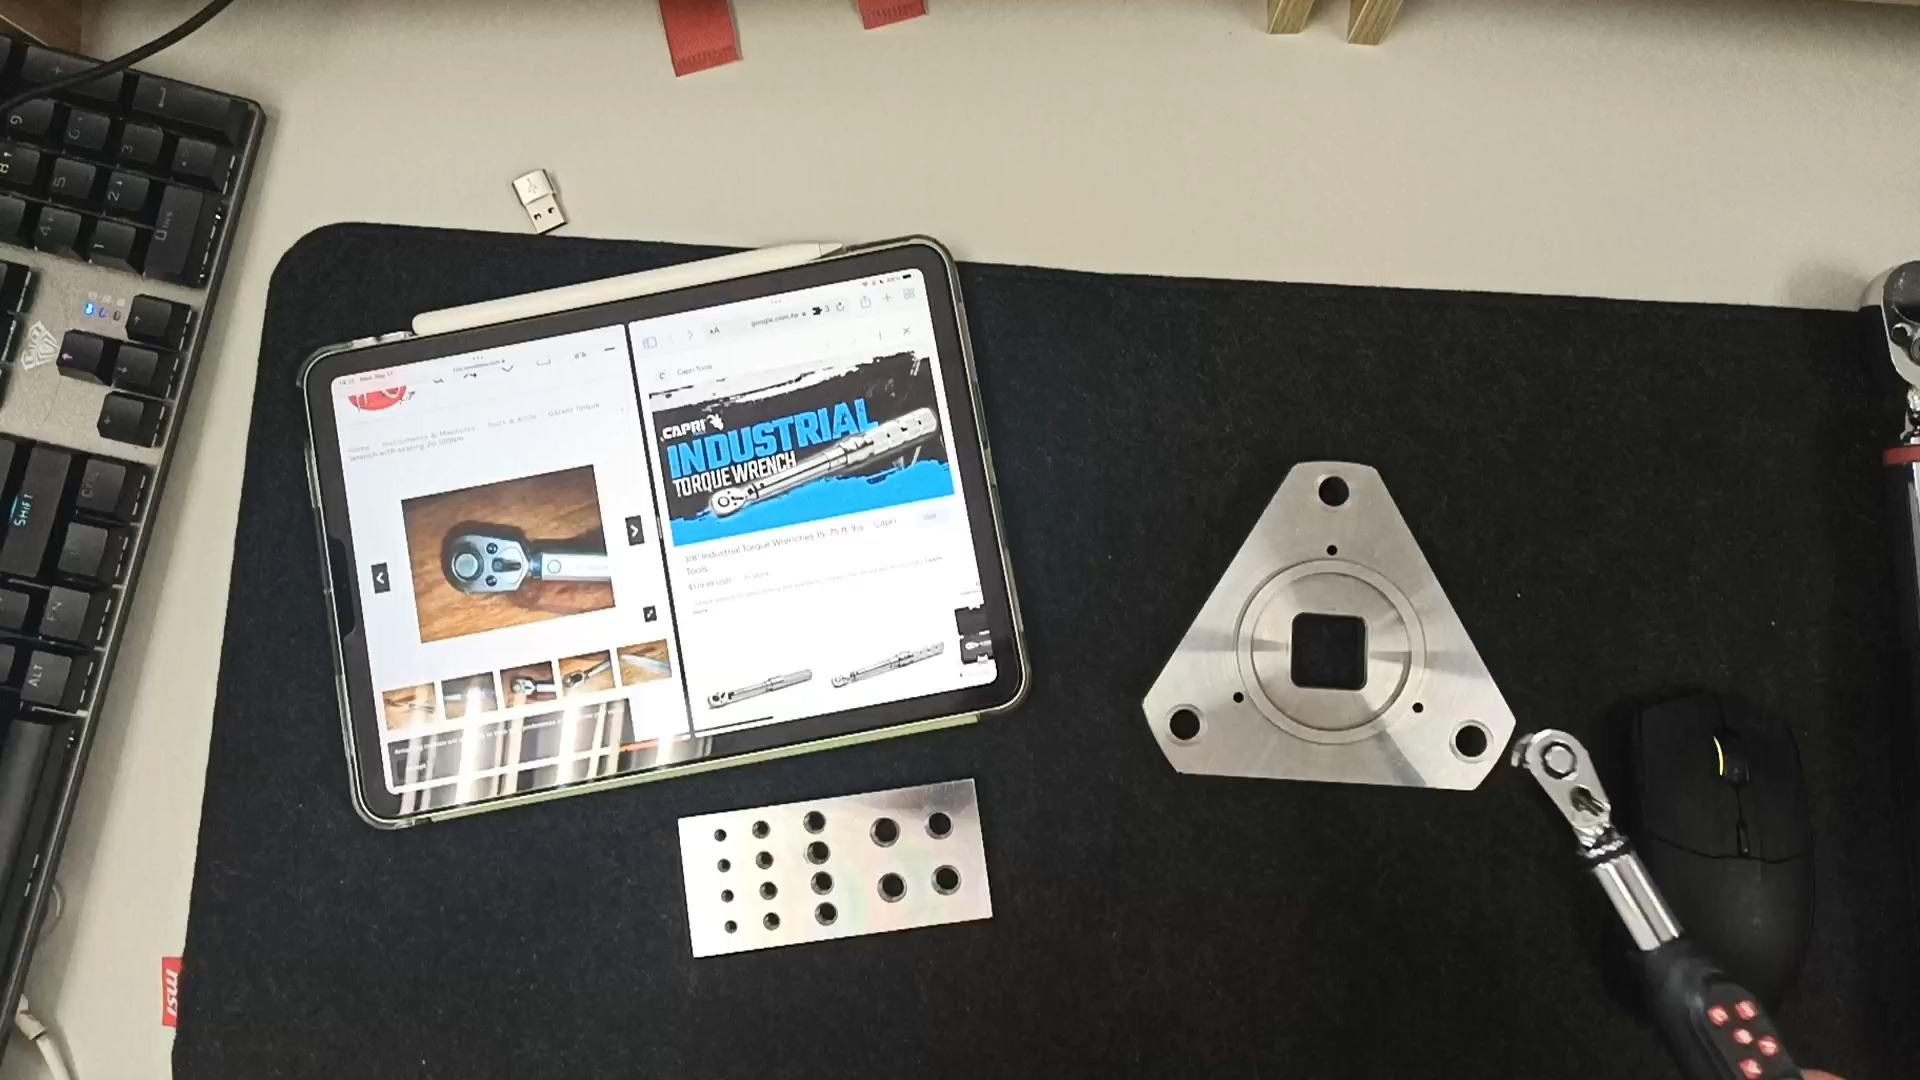Tool: (1505, 721, 1651, 861), (435, 522, 526, 604), (712, 480, 757, 524)
hole: (1439, 724, 1503, 773), (1300, 473, 1364, 518), (914, 858, 973, 899), (1155, 709, 1208, 753), (910, 808, 968, 845), (860, 812, 914, 847), (868, 866, 919, 902), (790, 807, 837, 836), (794, 837, 841, 865), (803, 902, 847, 930), (800, 868, 844, 895), (736, 818, 774, 840), (741, 852, 778, 873), (742, 881, 779, 902), (700, 824, 733, 844), (702, 857, 735, 876), (704, 886, 737, 905), (749, 915, 782, 934), (712, 919, 742, 936)
